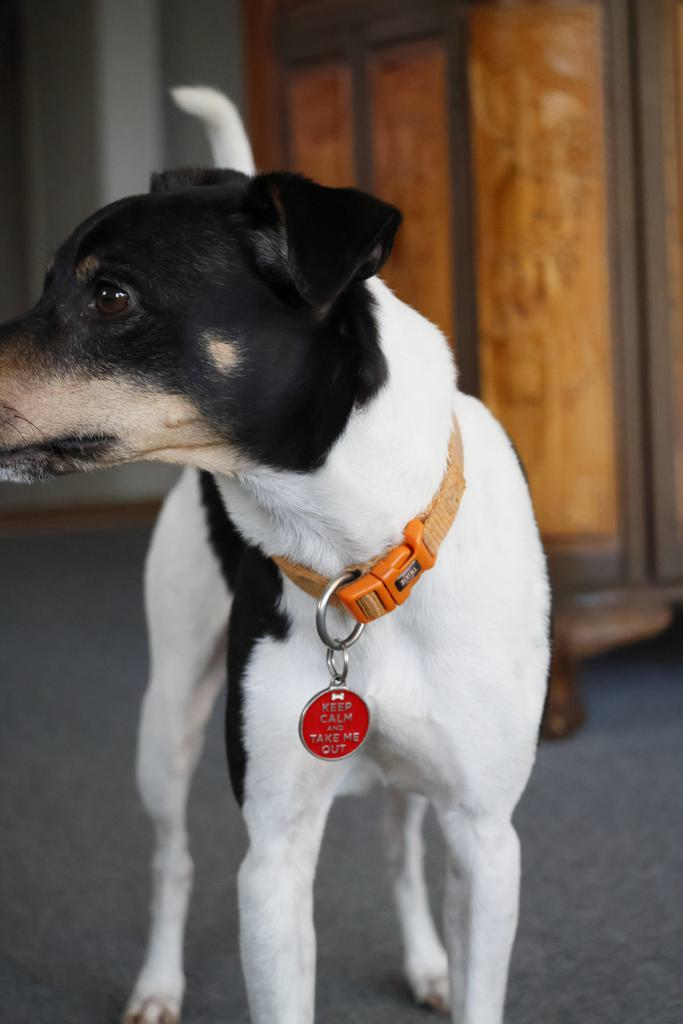Dog: (0, 75, 565, 1024)
